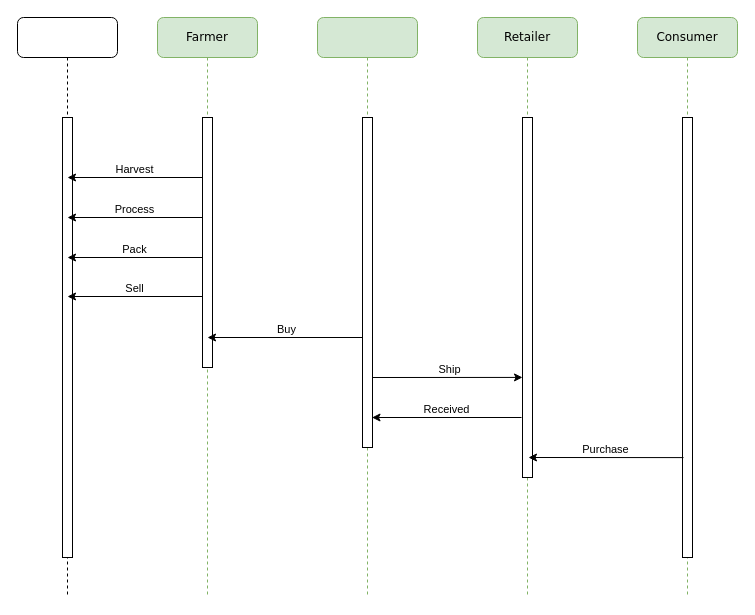
Some shapes in this 755 by 615 pixel diagram are drawn without their labels. The shapes that lost their labels are listed below. From the top down, each one's box as (x1, y1, x2, y2) in pixels, then its label:
(16, 16, 118, 598): Coffee
(316, 16, 418, 598): Distributor
